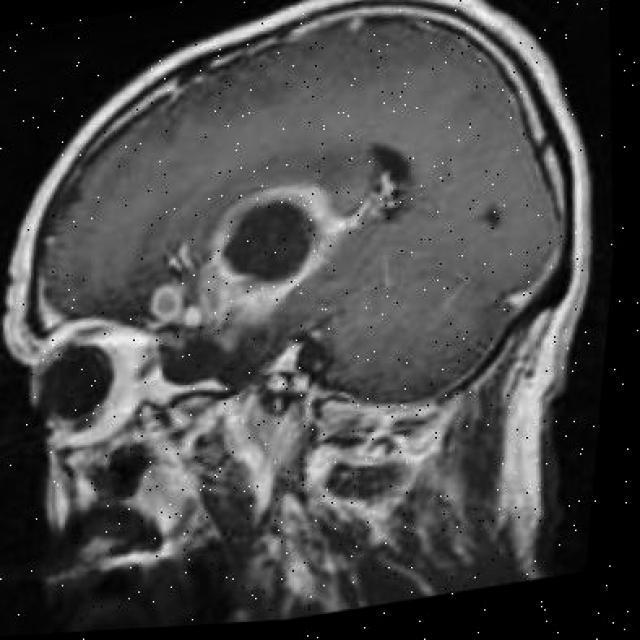LMCI: (152, 154, 336, 280)
